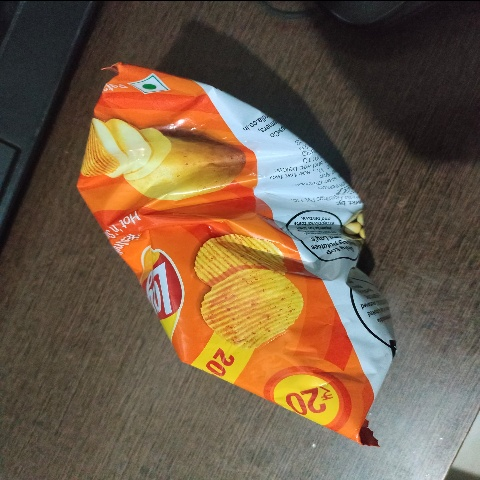lays_orange_pack: (52, 54, 419, 452)
